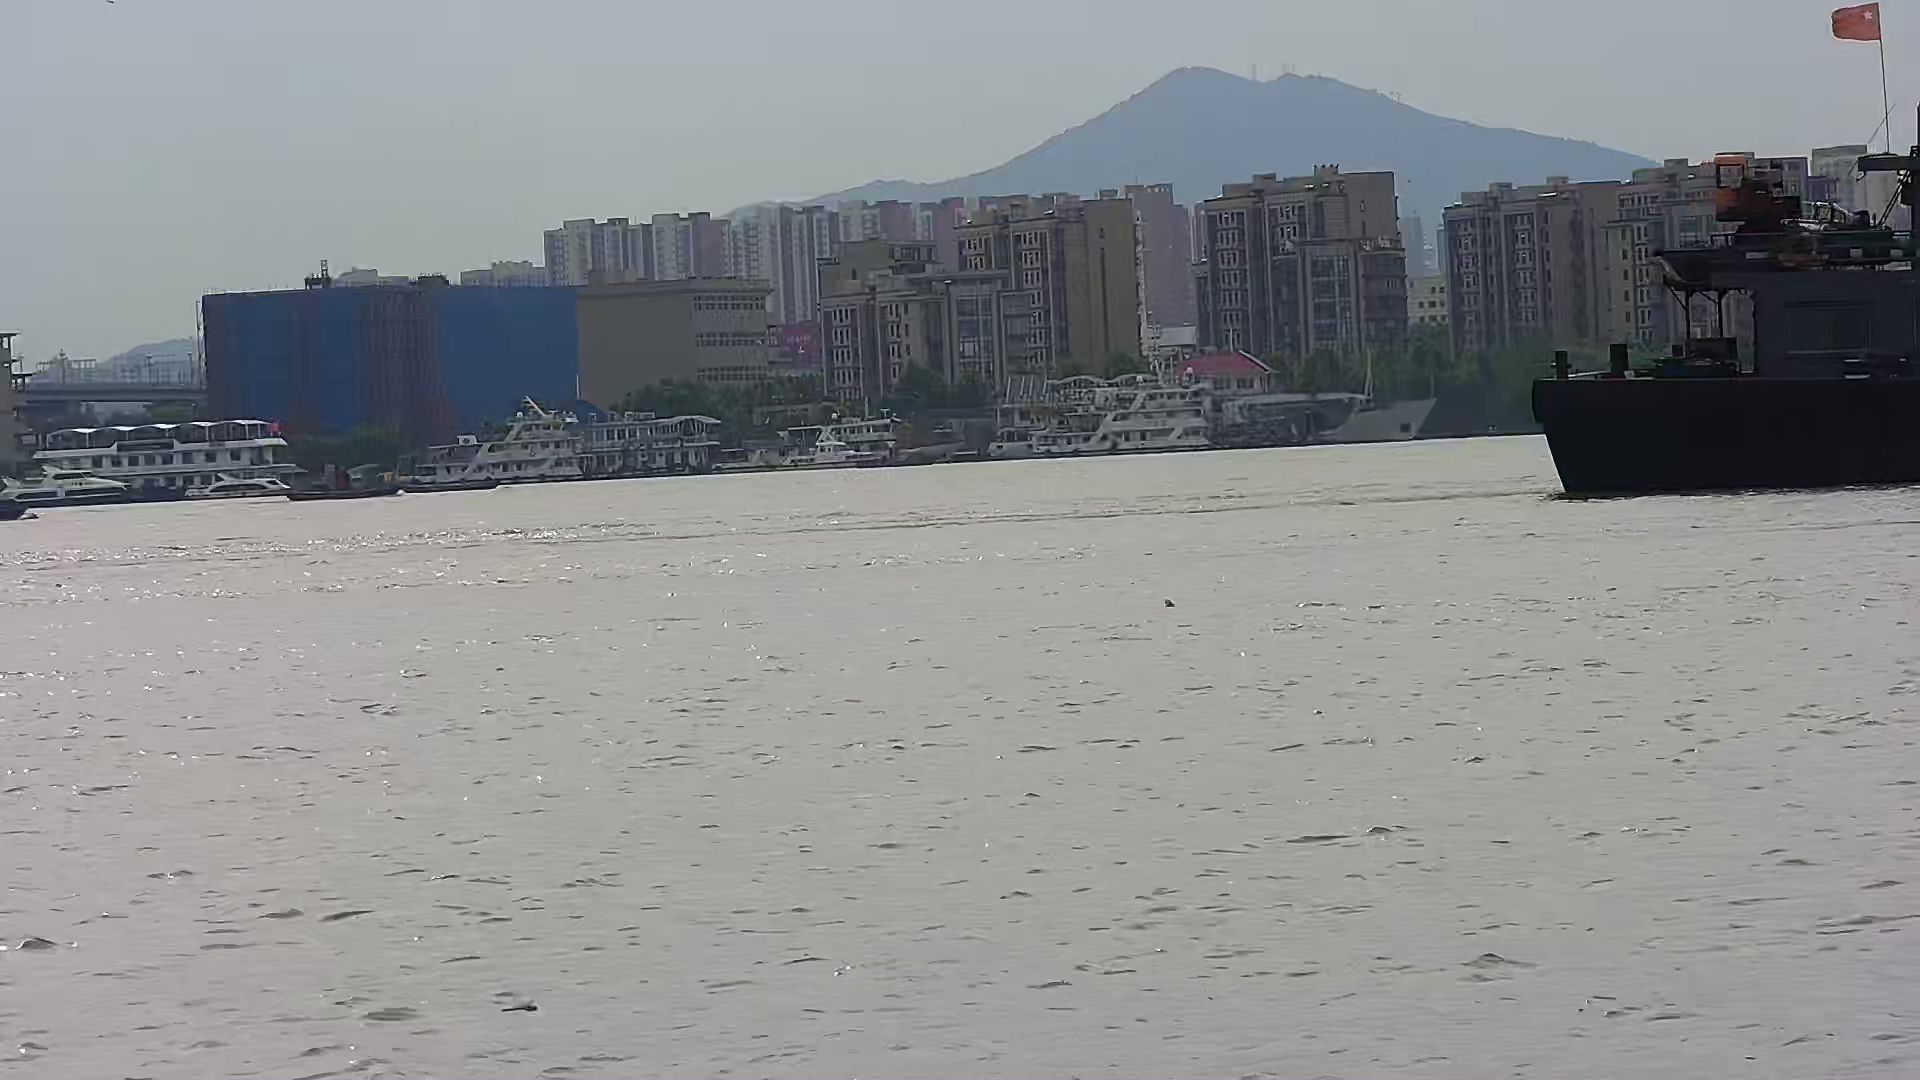boat: (285, 467, 401, 498), (397, 473, 497, 492)
rubbish: (1164, 599, 1182, 611)
ship: (1530, 4, 1920, 493), (988, 352, 1448, 454), (392, 398, 584, 487), (3, 465, 189, 506), (774, 439, 887, 469), (185, 473, 282, 498)
